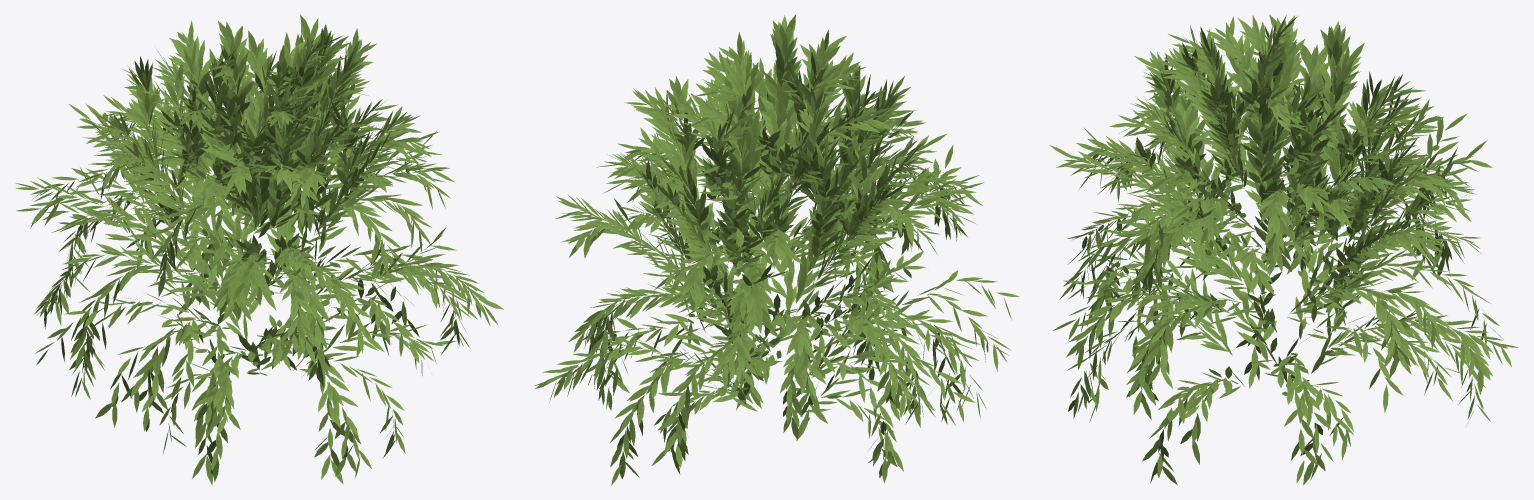
The model's file is basic_terrain_v3_leaves_001_001.dae.
3 views of the same model, side by side, from view 1: azimuth 30°, elevation 25°; view 2: azimuth 150°, elevation 25°; view 3: azimuth 270°, elevation 25° (orthographic).
Parts seen in each view (by area): view 1: leaves_001_001; view 2: leaves_001_001; view 3: leaves_001_001.
Part boxes in pixels (x1,y1,x2,y2): leaves_001_001: [15, 14, 503, 485]; leaves_001_001: [534, 14, 1019, 485]; leaves_001_001: [1050, 14, 1518, 485].
Size of the model in its own units: 5.78 by 6.05 by 6.04.
1 material, 1 textured.
